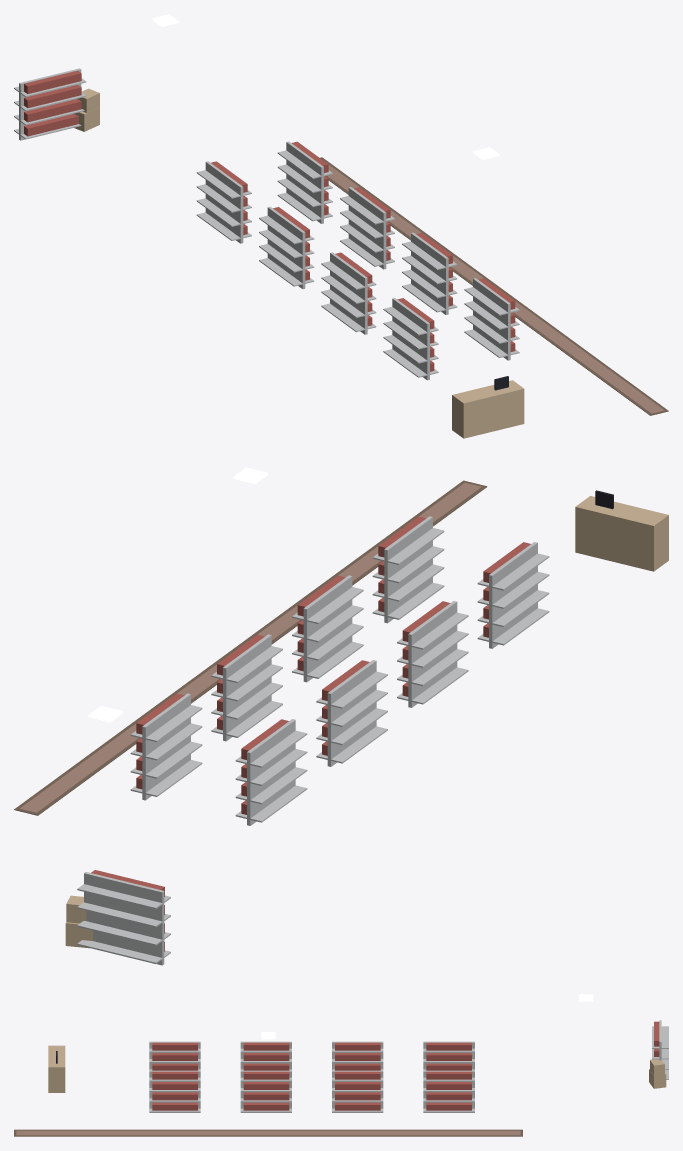
File: fine-s0.glb
3 views of the same model, one above another, from view 1: azimuth 30°, elevation 25°; view 2: azimuth 150°, elevation 25°; view 3: azimuth 270°, elevation 25° (orthographic). The views are drawn at different scales.
Parts seen in each view (by area): view 1: soft-s0, shelving.000, shop-counter.000, shelf.002, shelf.000, shelf.007, shelf.001, shelf.004, shelf.005, shelf.003, shelf.006, cardboard-box.000; view 2: soft-s0, shelving.000, shop-counter.000, shelf.002, shelf.006, shelf.007, shelf.001, shelf.000, shelf.003, shelf.004, shelf.005, cardboard-box.000; view 3: soft-s0, shelf.004, shelf.007, shelf.005, shelf.006, shelf.000, shelf.003, shelf.001, shelf.002, shop-counter.000, shelving.000, cardboard-box.000.
Part boxes in pixels (x1,y1,x2,y2): soft-s0: (320, 157, 668, 415); shelving.000: (14, 68, 86, 140); shop-counter.000: (452, 376, 524, 438); shelf.002: (321, 252, 376, 334); shelf.000: (196, 161, 251, 243); shelf.007: (464, 278, 519, 360); shelf.001: (259, 206, 314, 289); shelf.004: (277, 141, 332, 223); shelf.005: (340, 187, 394, 269); shelf.003: (383, 298, 438, 380); shelf.006: (402, 232, 457, 314); cardboard-box.000: (74, 88, 99, 131); soft-s0: (14, 480, 487, 815); shelving.000: (77, 870, 170, 965); shop-counter.000: (575, 490, 668, 571); shelf.002: (397, 601, 468, 707); shelf.006: (292, 575, 363, 682); shelf.007: (372, 516, 444, 623); shelf.001: (316, 660, 387, 766); shelf.000: (235, 719, 307, 825); shelf.003: (477, 542, 549, 648); shelf.004: (130, 693, 202, 800); shelf.005: (211, 634, 282, 741); cardboard-box.000: (65, 895, 92, 948); soft-s0: (14, 1129, 522, 1136); shelf.004: (423, 1070, 474, 1112); shelf.007: (149, 1070, 200, 1112); shelf.005: (332, 1070, 383, 1112); shelf.006: (240, 1070, 291, 1112); shelf.000: (423, 1041, 474, 1070); shelf.003: (149, 1041, 200, 1070); shelf.001: (332, 1041, 383, 1070); shelf.002: (240, 1041, 291, 1070); shop-counter.000: (48, 1045, 65, 1092); shelving.000: (652, 1020, 668, 1079); cardboard-box.000: (649, 1059, 666, 1088).
Size of the model in its own units: 6.2 by 3.8 by 22.94.
